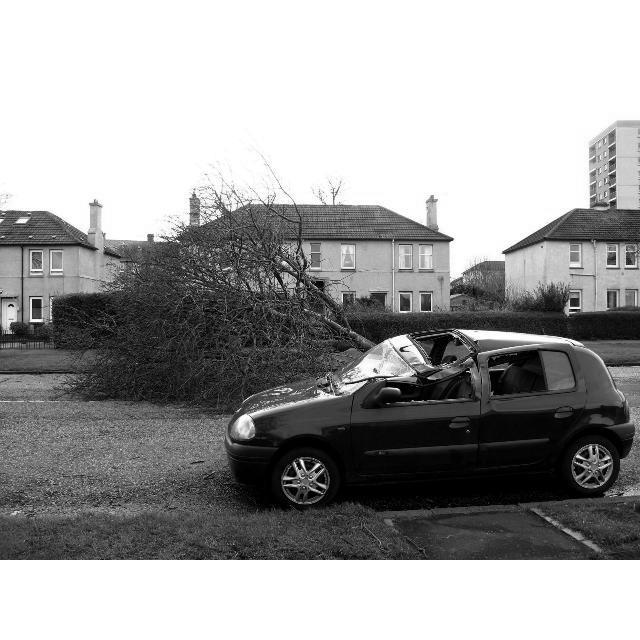Front-windscreen-damage: (320, 344, 411, 388)
roof-dent: (391, 325, 553, 367)
